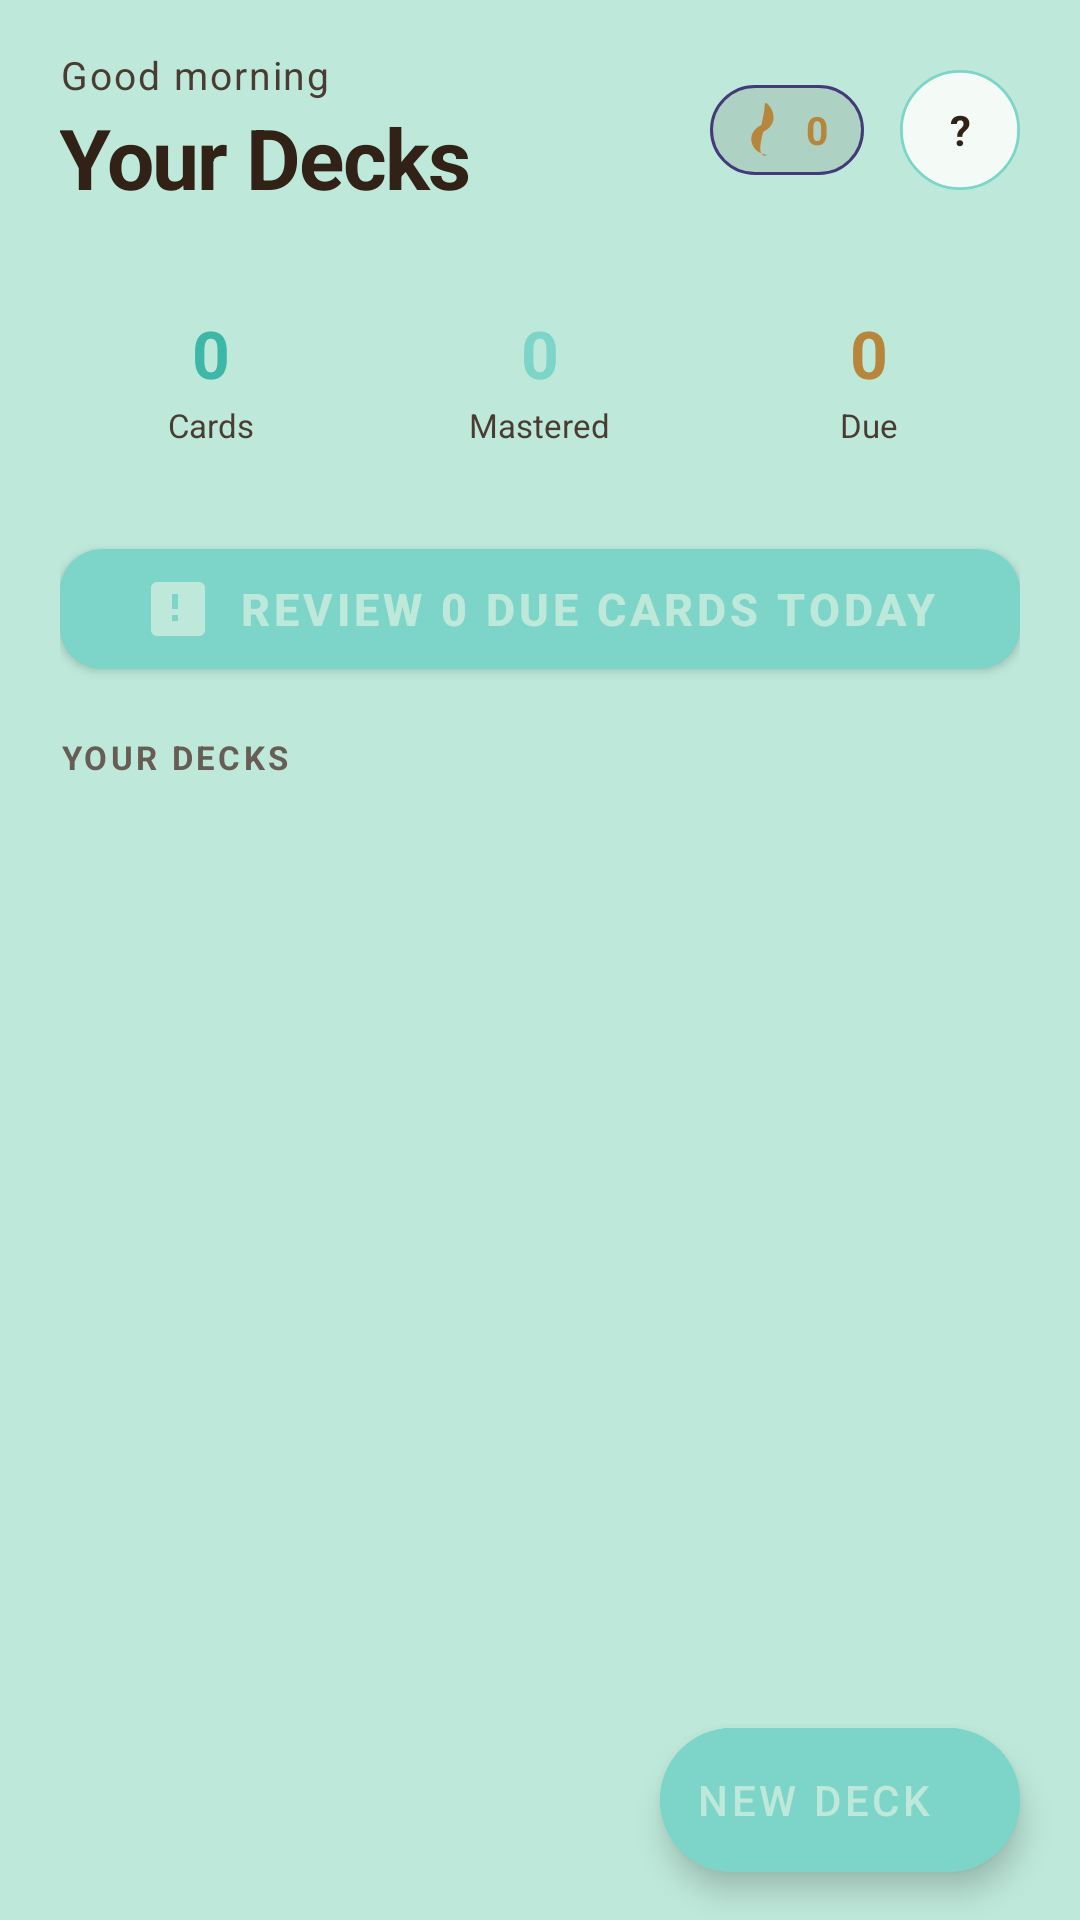

Icons on this 1080 x 1920 Android screen, each with the point to tap as point (x, y):
Streak: point (762, 129)
